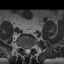CCS_stenosis: (26, 46, 28, 55)
LFS_stenosis: (30, 44, 32, 52)
LLS_normal: (28, 45, 31, 54)
RFS_severe_stenosis: (22, 44, 24, 52)
RLS_normal: (24, 46, 26, 54)
